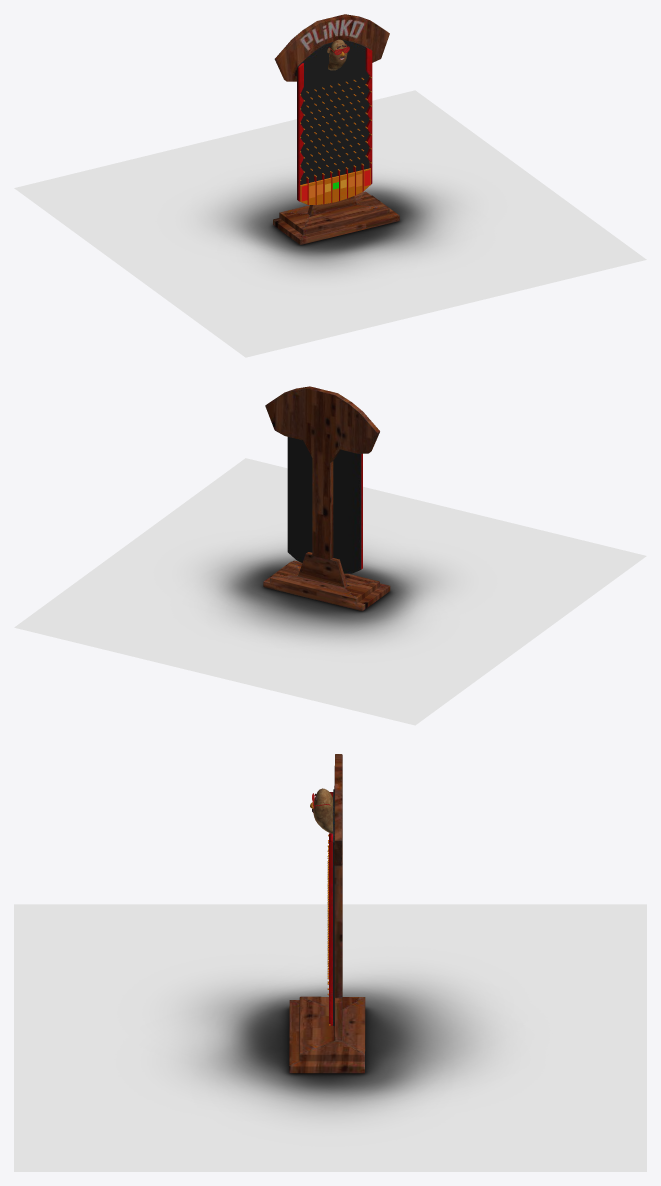
Rendered from plinko.glb.
The picture shows the model from 3 angles, top to bottom: view 1: azimuth 30°, elevation 25°; view 2: azimuth 150°, elevation 25°; view 3: azimuth 270°, elevation 25°; orthographic projection. The views are drawn at different scales.
Visible parts, largest first — view 1: master; view 2: master; view 3: master, Russet Potato__0.
Boxes of the visible parts, x1=… form: master: x1=14, y1=14, x2=646, y2=357; master: x1=14, y1=386, x2=646, y2=725; master: x1=14, y1=754, x2=646, y2=1171; Russet Potato__0: x1=313, y1=788, x2=332, y2=833.
Size of the model in its own units: 15.32 by 7.37 by 15.32.
Materials: 14 (6 with a texture image).
